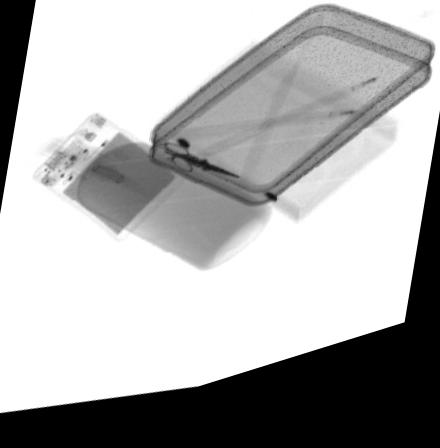Powerbank: (32, 118, 188, 248)
Scissors: (158, 150, 242, 193)
